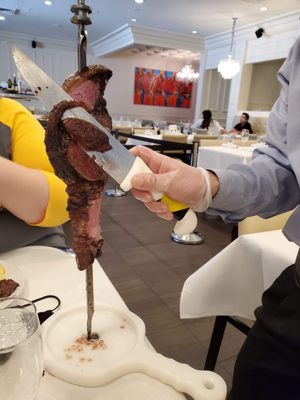pizza: (0, 293, 60, 400)
